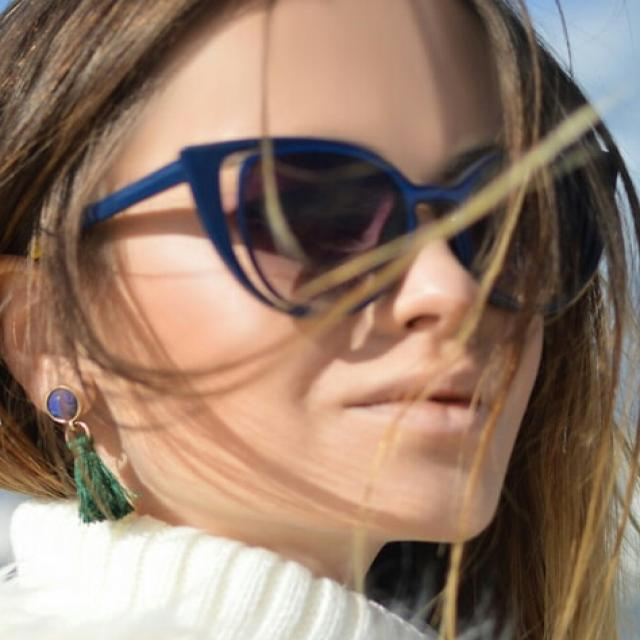front: (169, 118, 526, 467)
